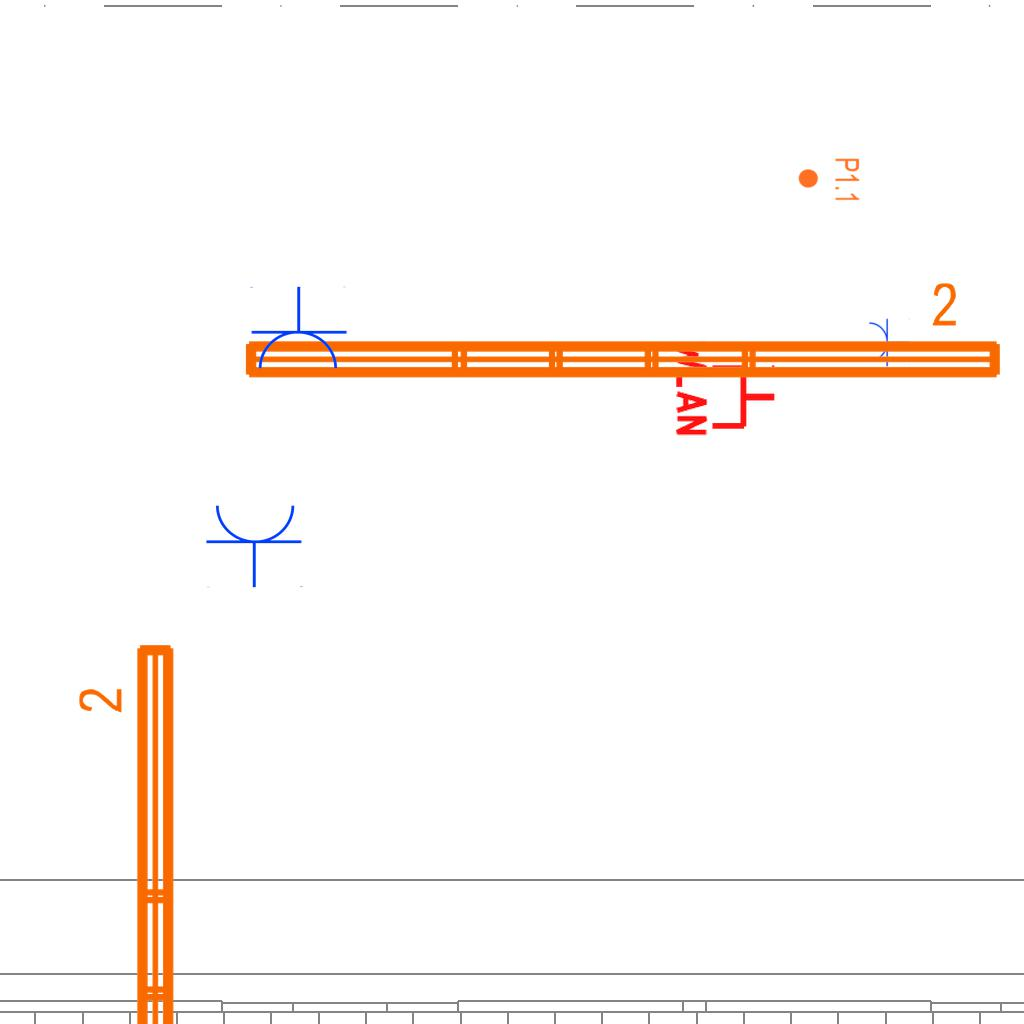Ambulanz_Pendelleuchte_LED: (235, 278, 1009, 390), (74, 636, 186, 1024)
Downlight_LED_Einbauleuchten_Flur: (797, 157, 861, 203)
Schukosteckdose_einfach: (205, 501, 305, 588), (248, 286, 348, 373), (867, 317, 910, 367)
WLAN: (674, 336, 779, 440)
